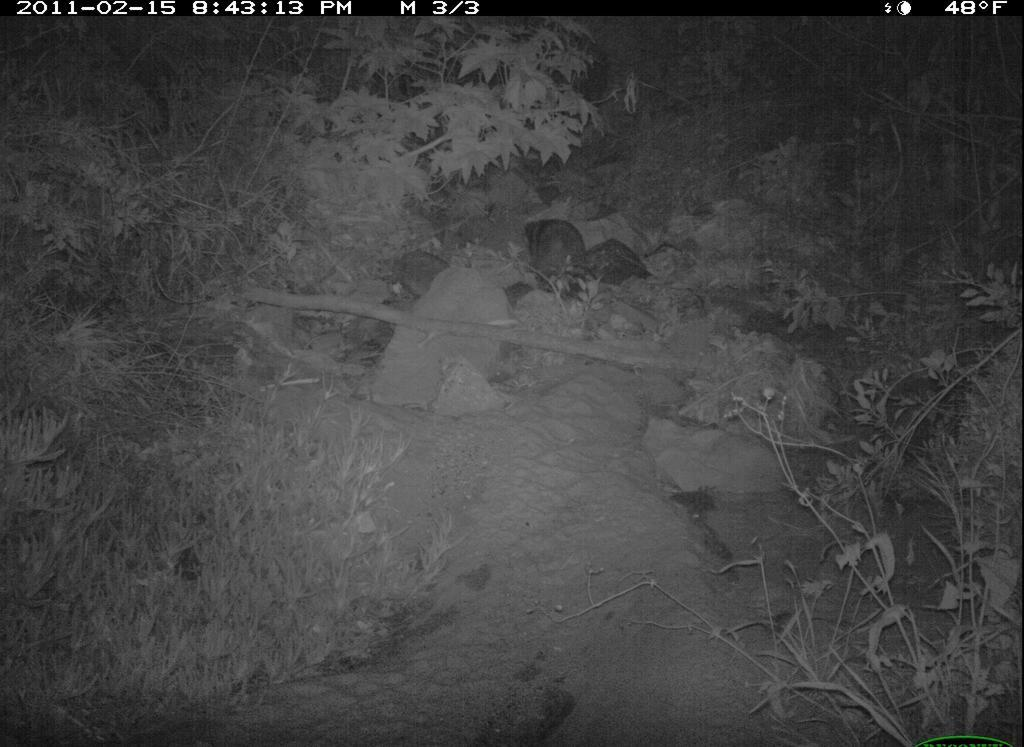raccoon: (514, 208, 652, 310)
